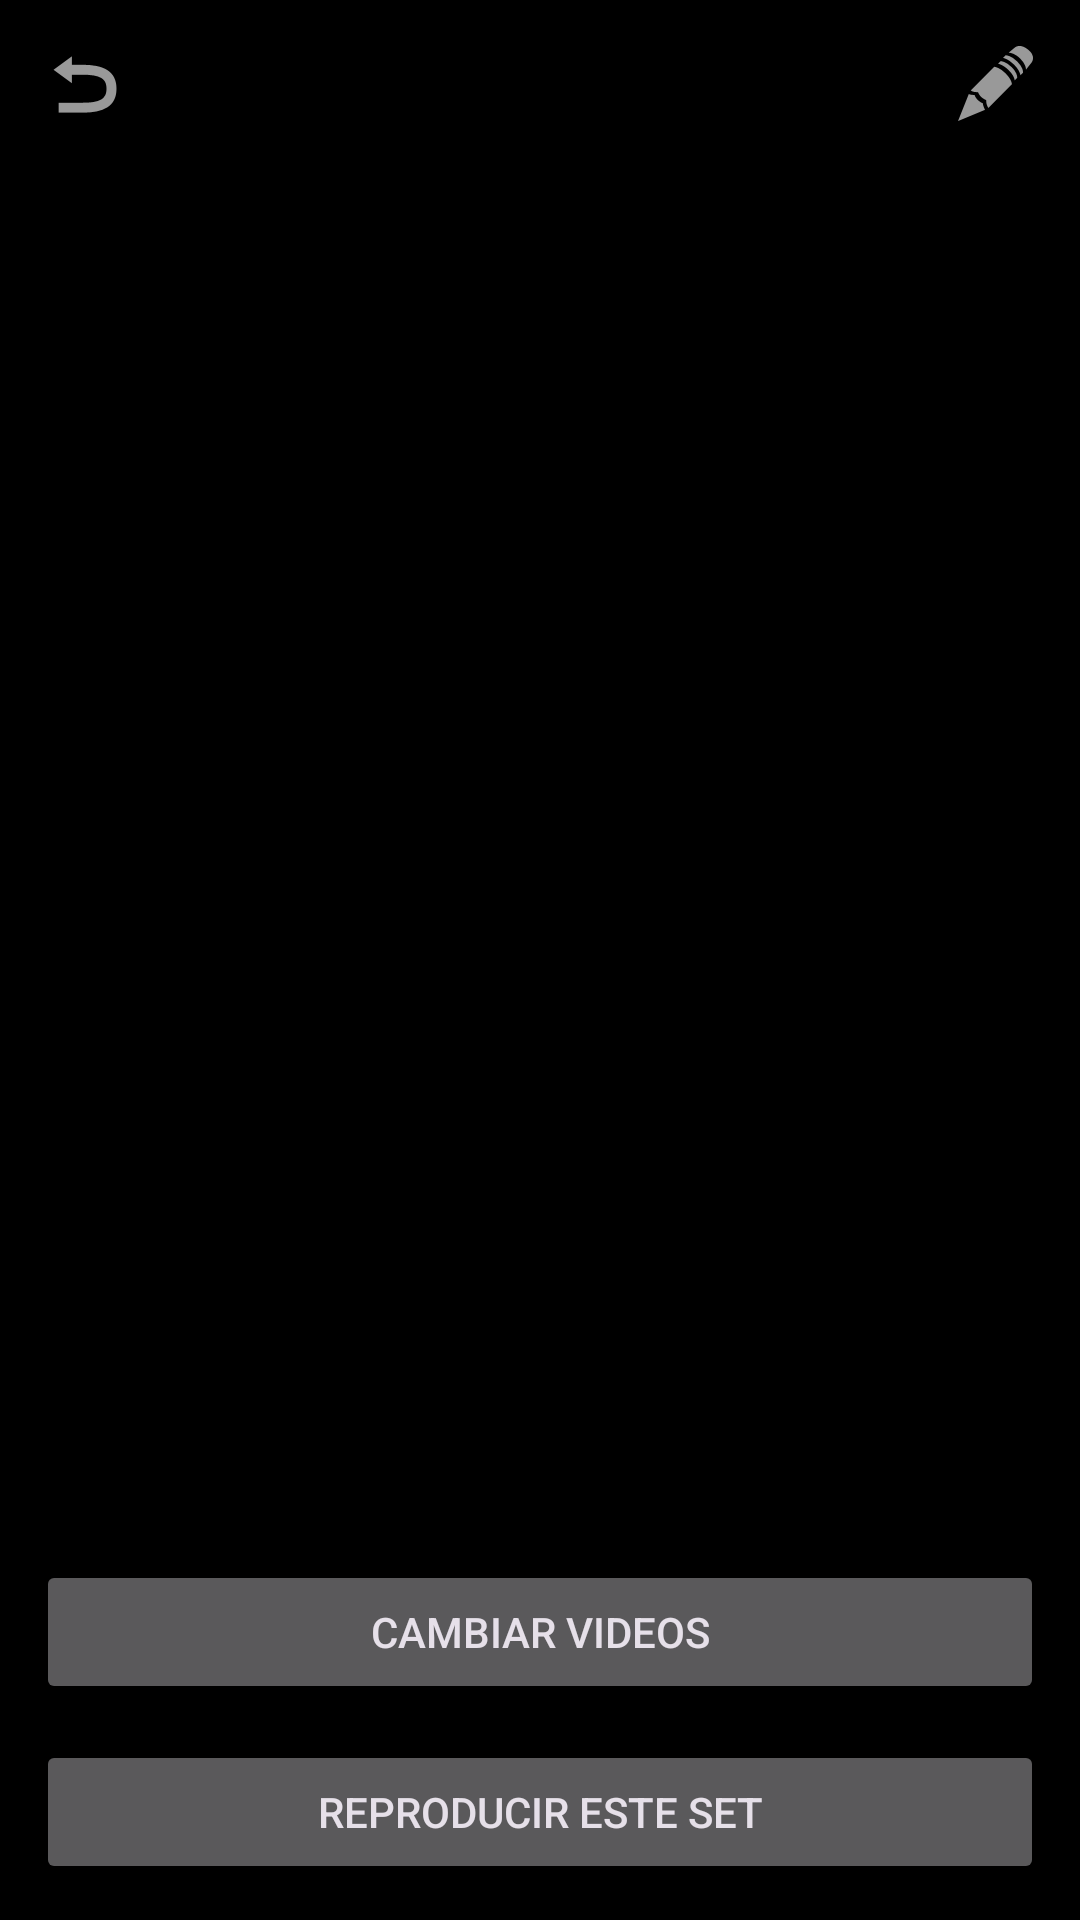

Icon click points for this 1080 × 1920 phone screenshot, format point (x, y):
Renombrar: point (995, 83)
Subir un nivel: point (85, 84)
